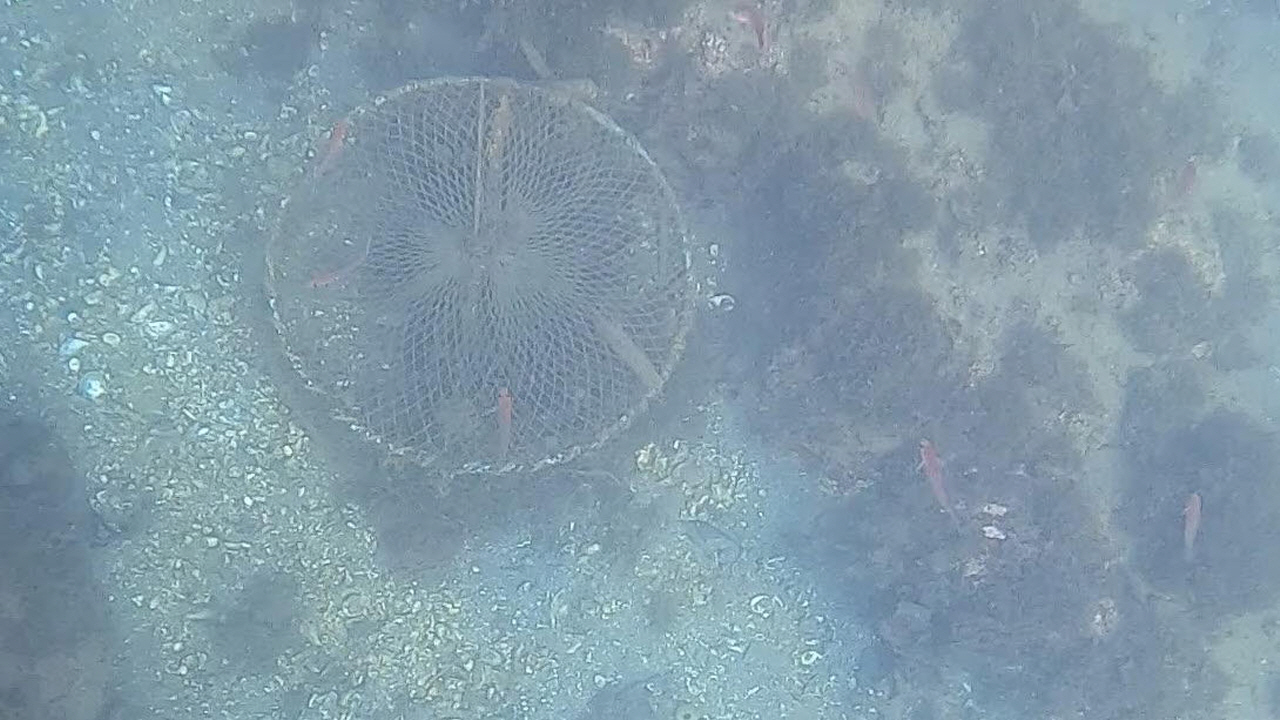circular fish trap: (264, 74, 696, 475)
